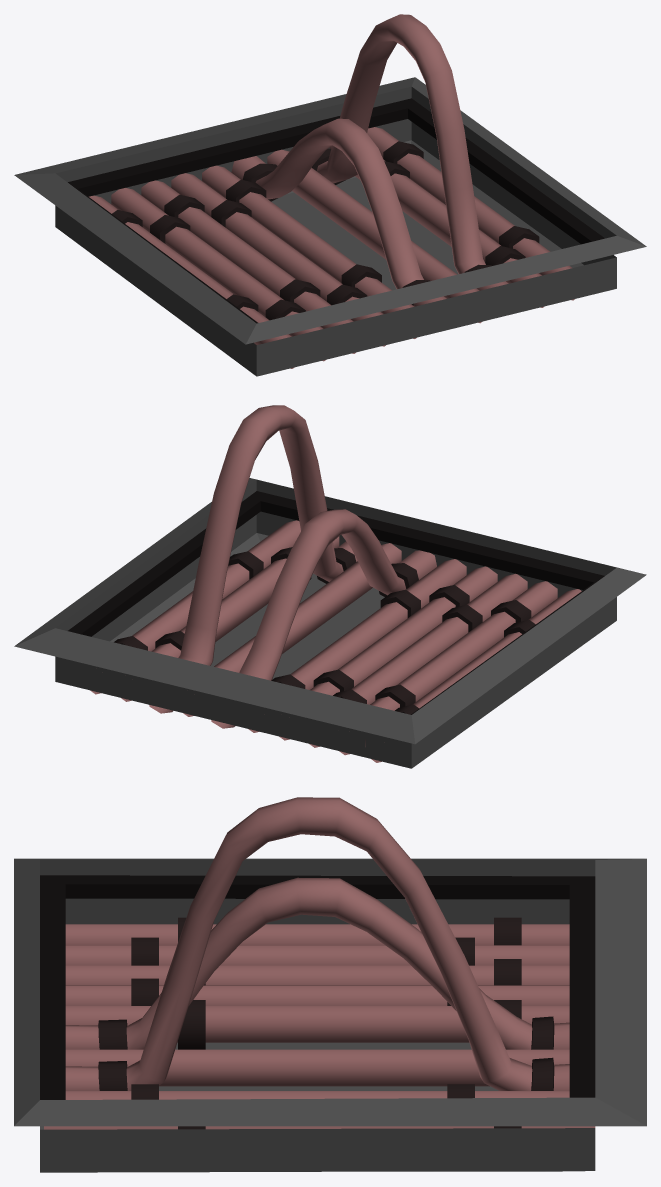
The model's file is Module_Ss_roof_1XC.FBX.
3 renders of one model, top to bottom at view 1: azimuth 30°, elevation 25°; view 2: azimuth 150°, elevation 25°; view 3: azimuth 270°, elevation 25°, orthographic. The views are drawn at different scales.
Parts seen in each view (by area): view 1: Module_Ss_roof_1XC; view 2: Module_Ss_roof_1XC; view 3: Module_Ss_roof_1XC.
Part boxes in pixels (box(x1,y1,x2,y2)): Module_Ss_roof_1XC: box(14, 14, 646, 376); Module_Ss_roof_1XC: box(14, 405, 646, 768); Module_Ss_roof_1XC: box(14, 797, 646, 1172).
Size of the model in its own units: 39.37 by 21.59 by 39.37.
